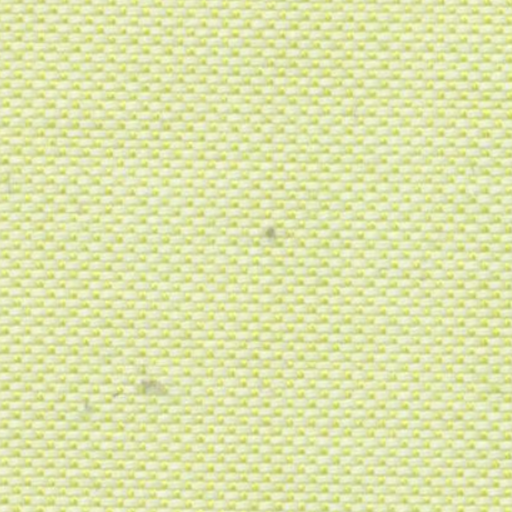WuZi: (128, 354, 177, 406), (252, 212, 292, 250), (66, 386, 108, 422)
